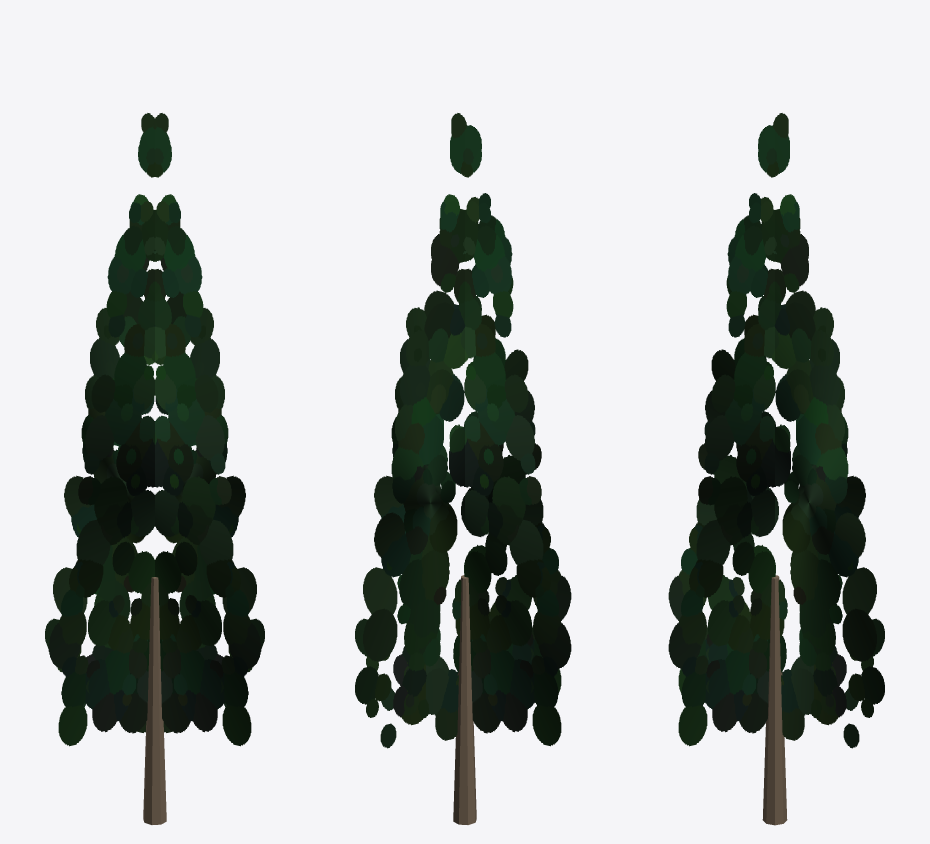
File: conifer_l.glb
3 views of the same model, side by side, from view 1: azimuth 30°, elevation 25°; view 2: azimuth 150°, elevation 25°; view 3: azimuth 270°, elevation 25° (orthographic).
Visible parts, largest first — view 1: conifer_l; view 2: conifer_l; view 3: conifer_l.
Part boxes in pixels (x1=…): conifer_l: x1=45, y1=113, x2=264, y2=824; conifer_l: x1=355, y1=113, x2=571, y2=824; conifer_l: x1=668, y1=113, x2=884, y2=825.
Size of the model in its own units: 8 by 20 by 6.93.
Materials: 2 (1 with a texture image).
